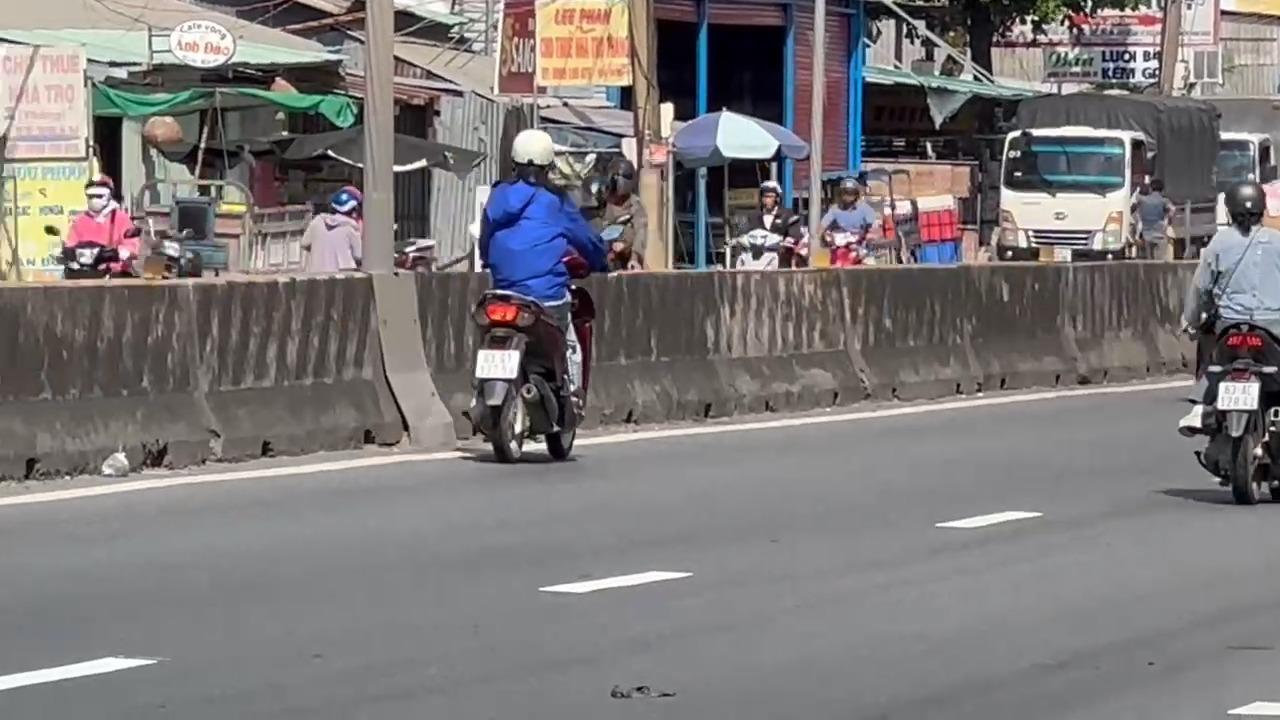bien_so: (474, 347, 520, 380), (1215, 379, 1260, 411)
